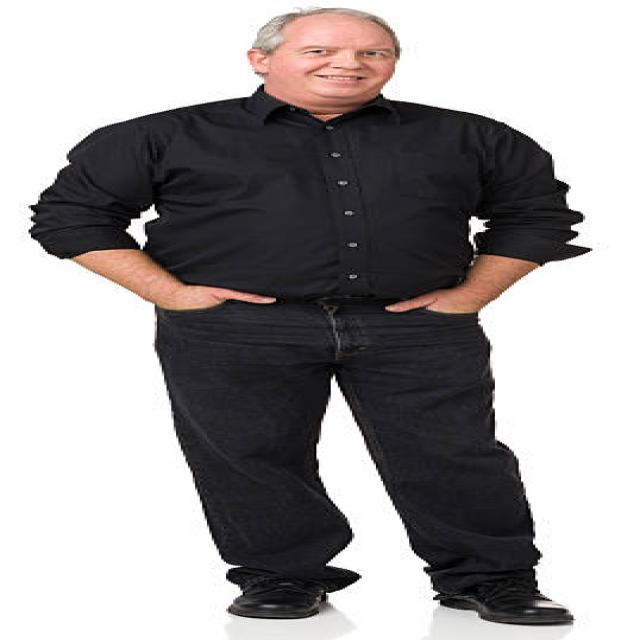Edited images: (7, 8, 621, 634)
